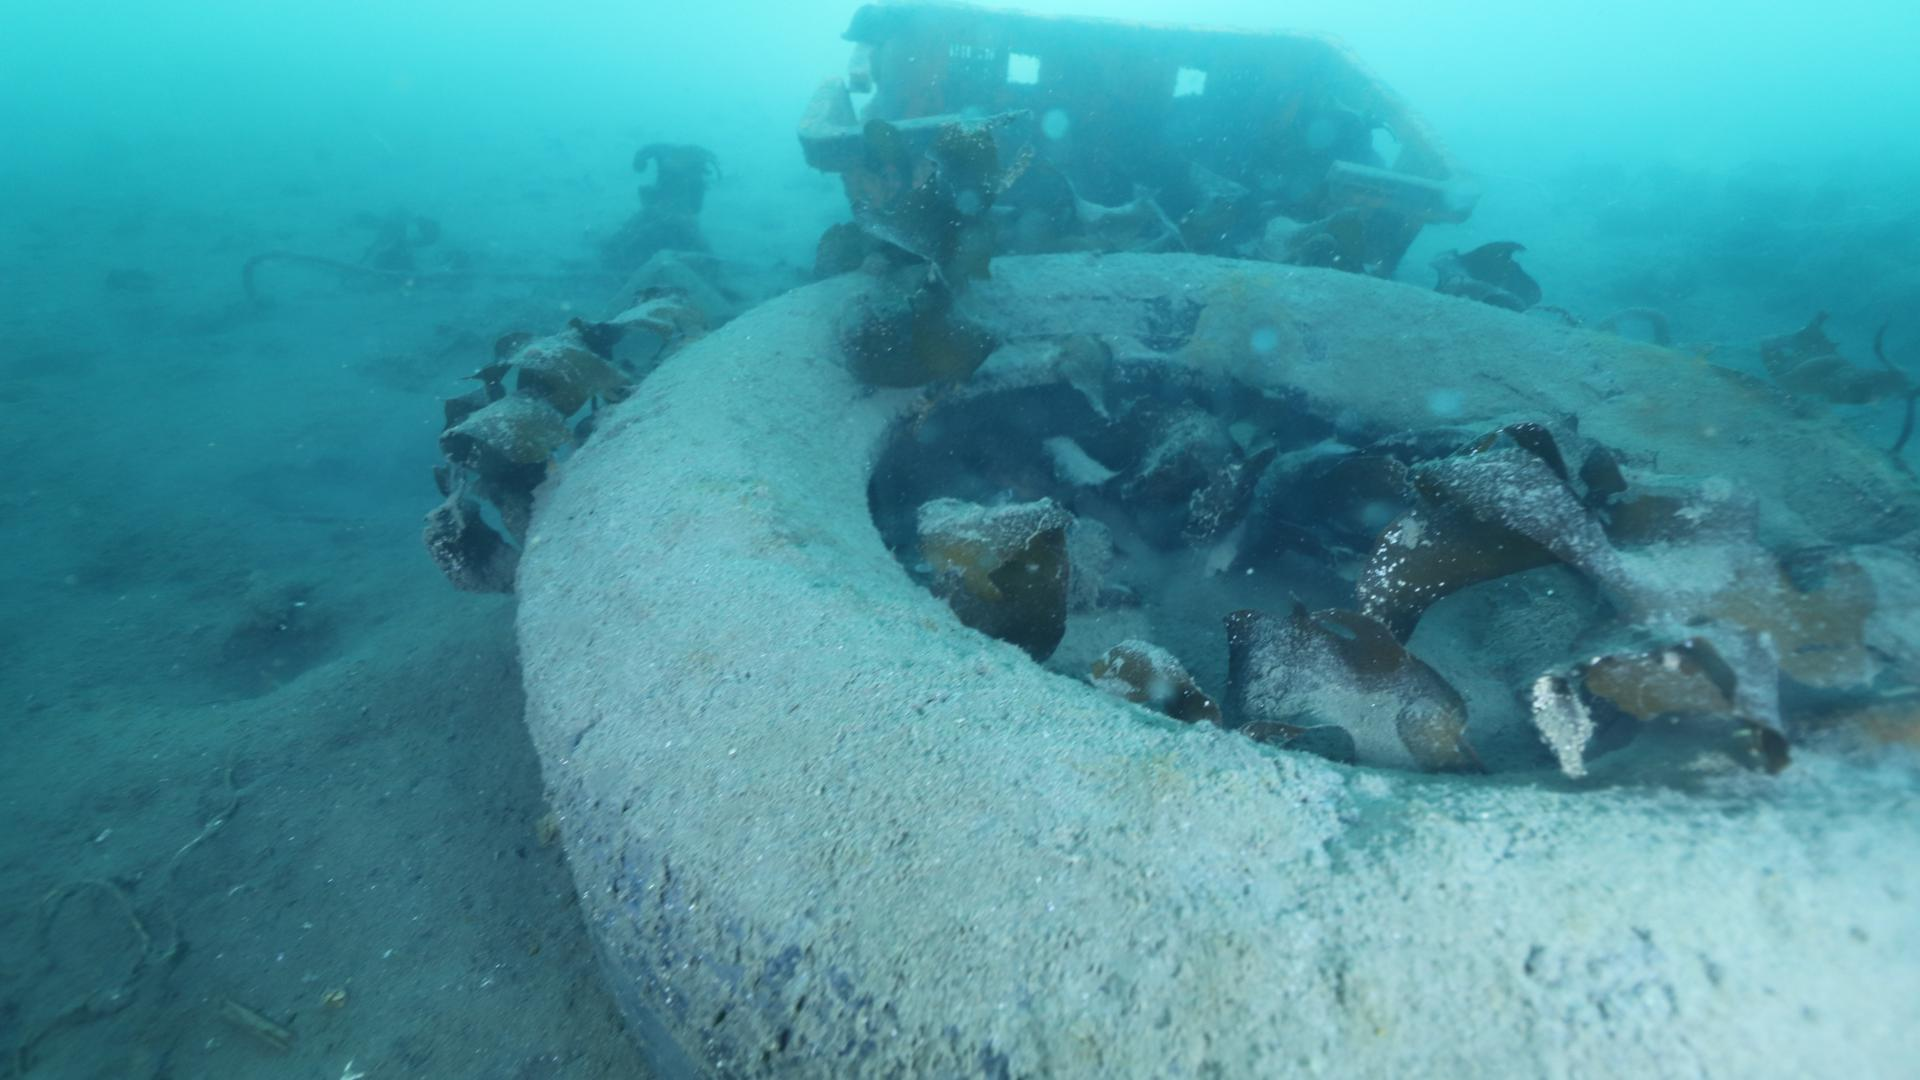tire: (513, 251, 1920, 1080)
